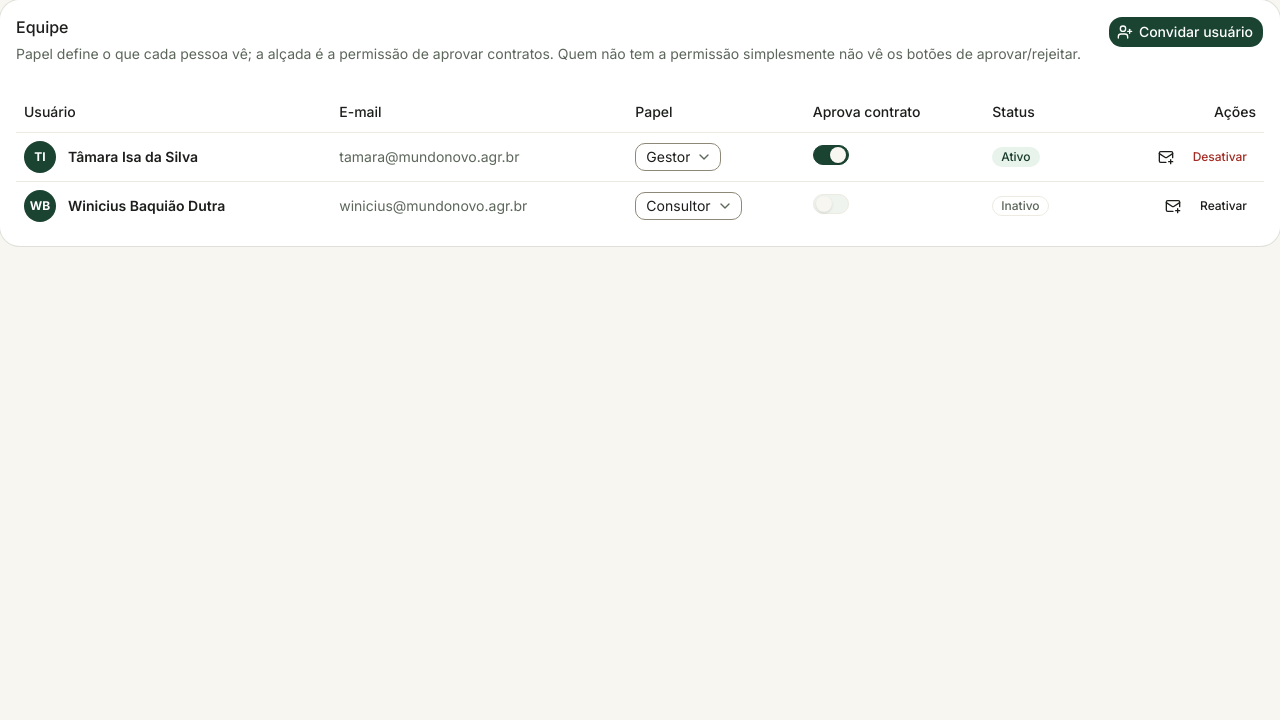
Scenario: TabelaUsuarios — desativação com confirmação › desativar pergunta antes, dizendo que o histórico fica
Click the button "Desativar". click: (1220, 156)
box: [1184, 144, 1256, 168]
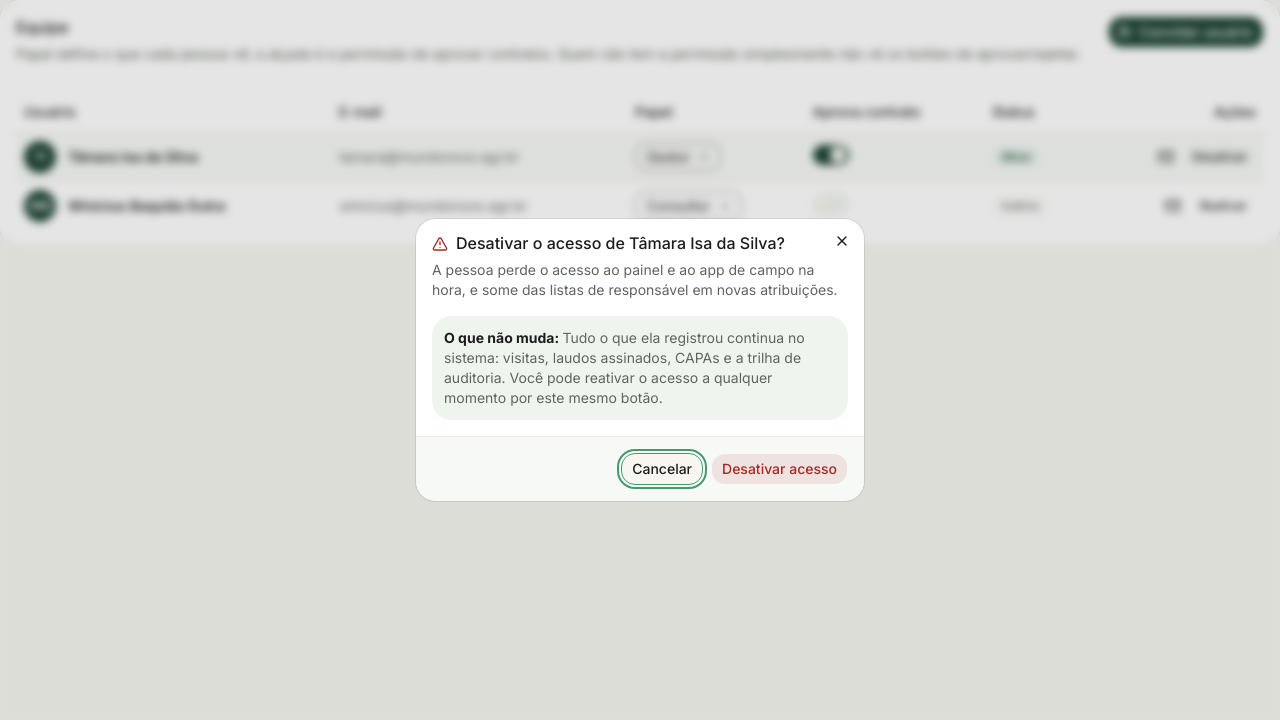
expect the heading "Desativar o acesso de Tâmara Isa da Silva?" is shown: met, box [432, 233, 785, 253]
expect the text "perde o acesso ao painel e ao app de campo" is shown: met, box [432, 261, 838, 298]
expect the text "O que não muda:" is shown: met, box [444, 329, 562, 346]
